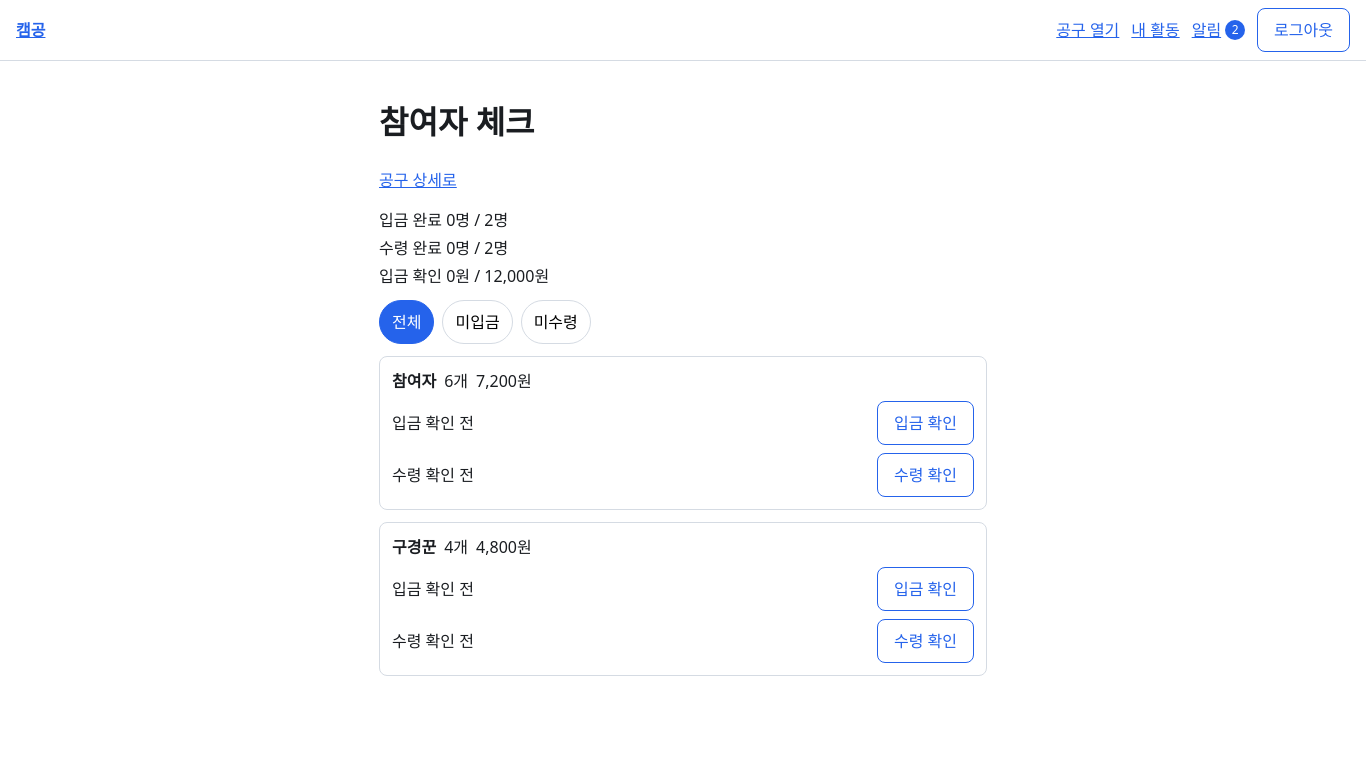
Test case: 체크표 (US6) › 입금 지정과 되돌리기: 행과 요약이 갱신된다
Expected: the list item "참여자" is shown, [379,356,987,510]
Click the 1st button "입금 확인": (926,423) [877,401,974,445]
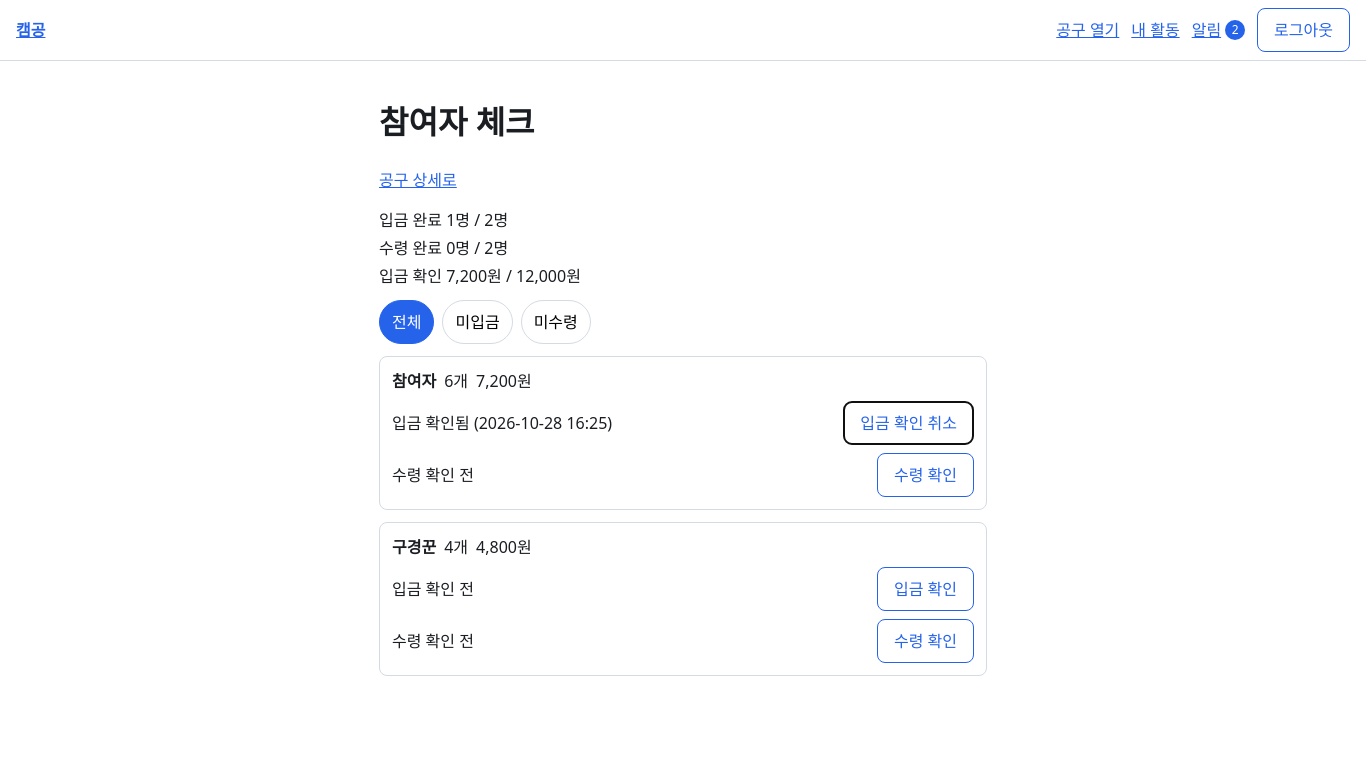
Expected: the text "입금 확인됨 (2026-10-28 16:25)" is shown, [392,411,612,435]
Expected: the text "입금 완료 1명 / 2명" is shown, [379,209,508,231]
Expected: the text "입금 확인 7,200원 / 12,000원" is shown, [379,265,581,287]
Click the button "입금 확인 취소": (909,423) [843,401,974,445]
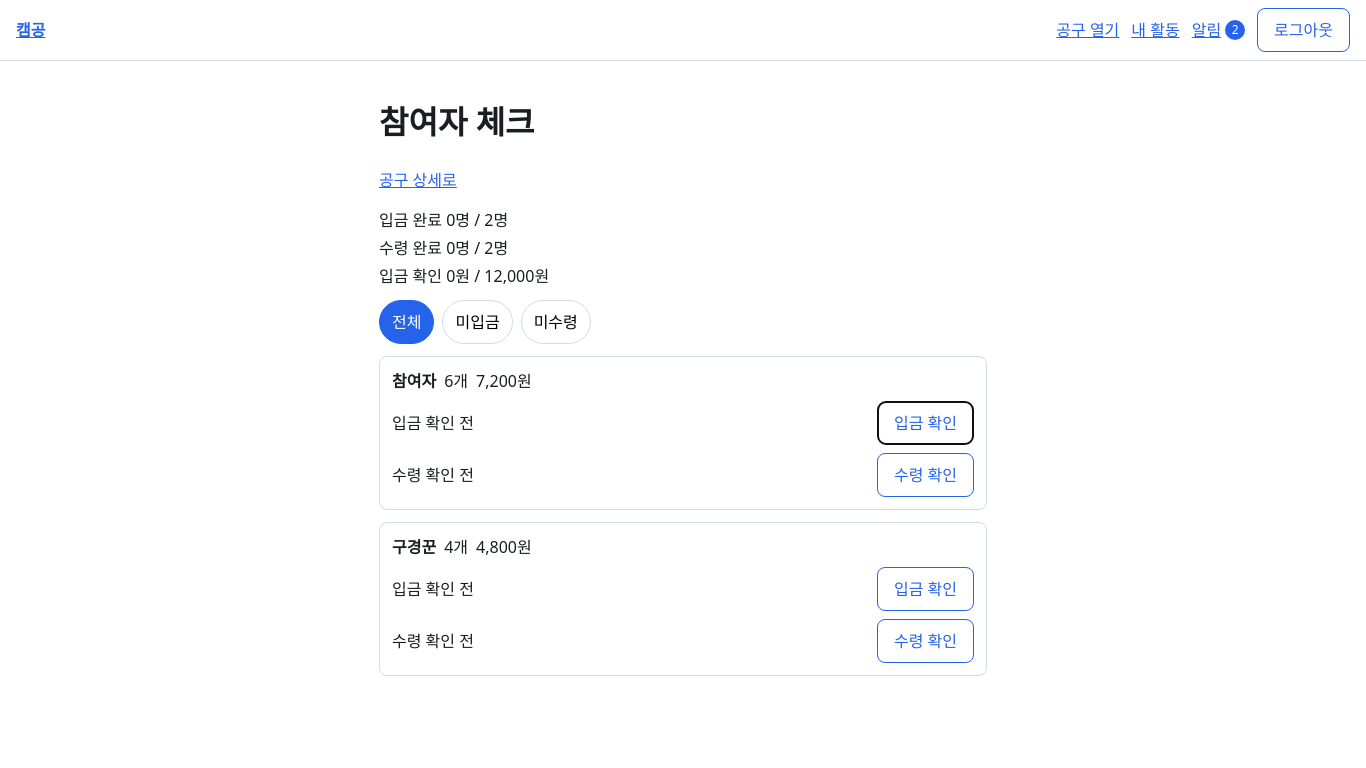
Expected: the text "입금 확인 전" below "7,200원" is shown, [392,412,474,434]
Expected: the text "입금 완료 0명 / 2명" is shown, [379,209,508,231]
